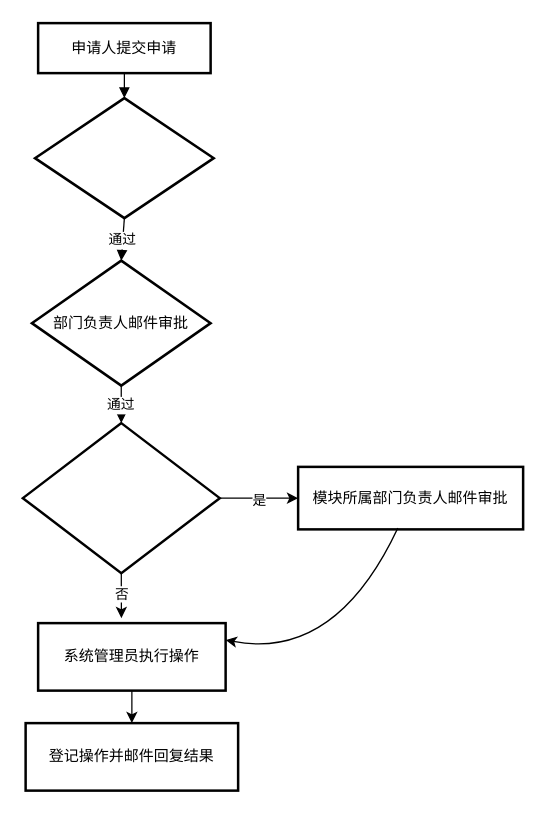
Image size: 546x813. Some labels were removed from this diagram. The box of each missing label's shape, as (x1, y1, x2, y2) in pixels:
涉及跨部门模块?: (21, 421, 220, 574)
直属上司邮件审批: (33, 96, 214, 219)
